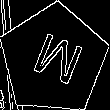M_S: (24, 28, 84, 91)
